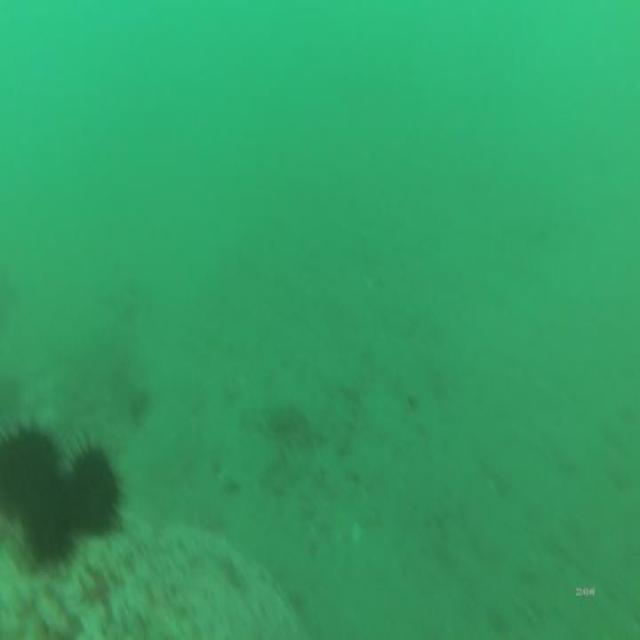echinus: (62, 430, 126, 545), (1, 416, 61, 532), (20, 463, 82, 567)
scallop: (125, 382, 151, 432)
